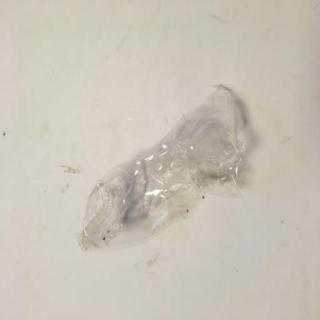Plastic-bottle: (79, 85, 249, 253)
